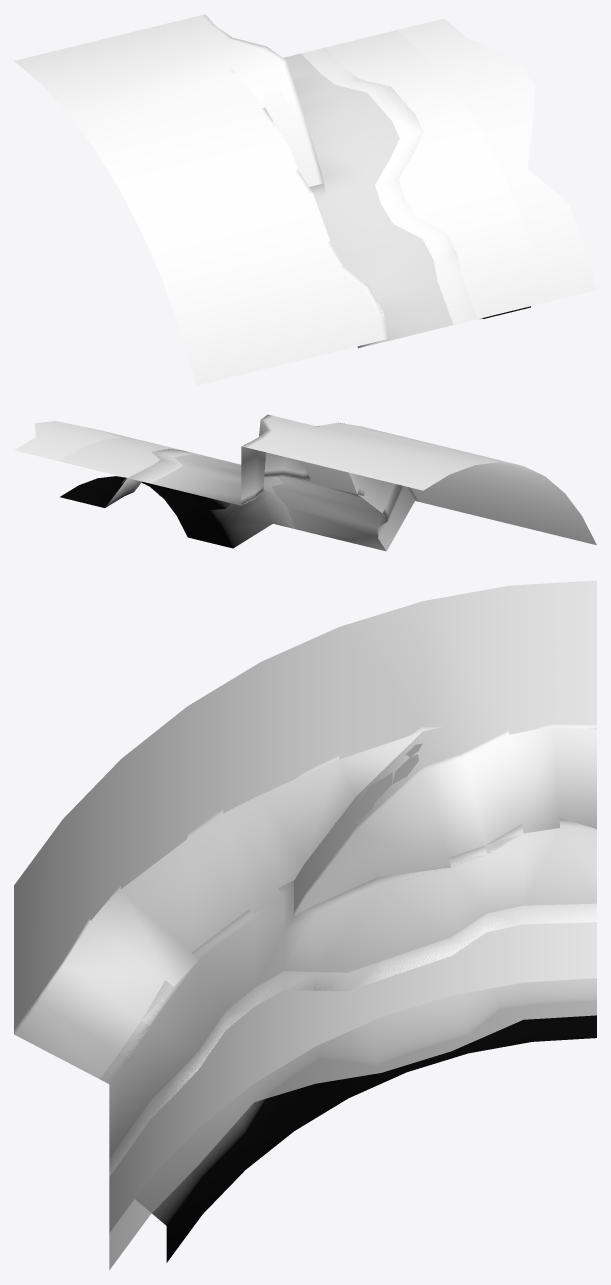
Rendered from grd_Me_S_0.dae.
3 renders of one model, top to bottom at view 1: azimuth 30°, elevation 25°; view 2: azimuth 150°, elevation 25°; view 3: azimuth 270°, elevation 25°, orthographic. The views are drawn at different scales.
Parts seen in each view (by area): view 1: grass_3_0, ocean_4_0, wave_6_0, beach_0_0, beach_1_0, cliff_2_0, slope_5_0; view 2: grass_3_0, beach_0_0, beach_1_0, cliff_2_0, wave_6_0, ocean_4_0; view 3: grass_3_0, cliff_2_0, beach_1_0, beach_0_0, wave_6_0, ocean_4_0, slope_5_0.
Part boxes in pixels (box(x1,y1,x2,y2)): grass_3_0: box(14, 15, 387, 385); ocean_4_0: box(325, 30, 548, 322); wave_6_0: box(323, 18, 596, 324); beach_0_0: box(283, 53, 453, 347); beach_1_0: box(301, 47, 530, 324); cliff_2_0: box(200, 14, 387, 348); slope_5_0: box(247, 67, 315, 184); grass_3_0: box(242, 416, 596, 545); beach_0_0: box(151, 454, 389, 551); beach_1_0: box(60, 448, 295, 548); cliff_2_0: box(241, 414, 419, 551); wave_6_0: box(14, 421, 291, 527); ocean_4_0: box(60, 438, 292, 524); grass_3_0: box(14, 580, 596, 1033); cliff_2_0: box(14, 724, 596, 1079); beach_1_0: box(109, 903, 596, 1262); beach_0_0: box(100, 818, 596, 1158); wave_6_0: box(109, 909, 596, 1269); ocean_4_0: box(109, 915, 596, 1232); slope_5_0: box(295, 743, 422, 905).
Size of the model in its own units: 608 by 308 by 423.
7 materials, 1 textured.
